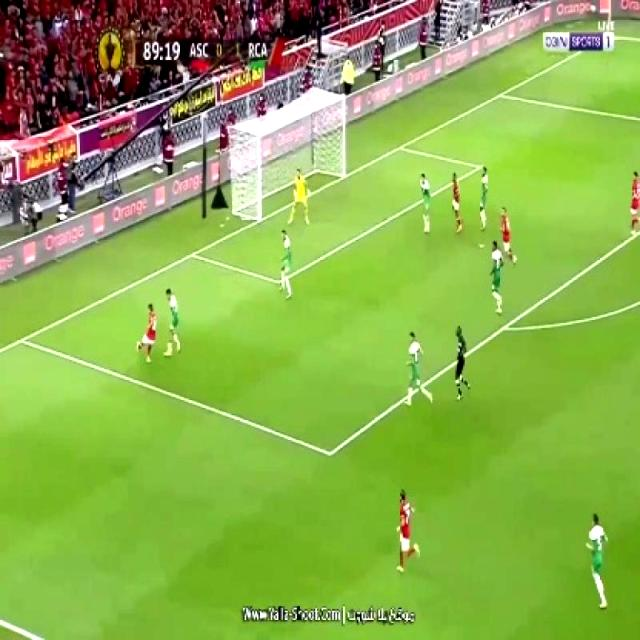bigarea_bottom_inner: (318, 438, 338, 468)
bigarea_bottom_outter: (14, 331, 29, 349)
bigarea_top_outter: (494, 88, 506, 102)
bottom_arc_area_intersection: (498, 317, 512, 338)
corner: (602, 34, 612, 41), (570, 51, 580, 57)
smallarea_bottom_inner: (268, 273, 290, 293)
smallarea_bottom_outter: (185, 245, 200, 263)
smallarea_top_inner: (474, 158, 486, 174)
smallarea_top_outter: (14, 329, 29, 351), (392, 140, 404, 155)
